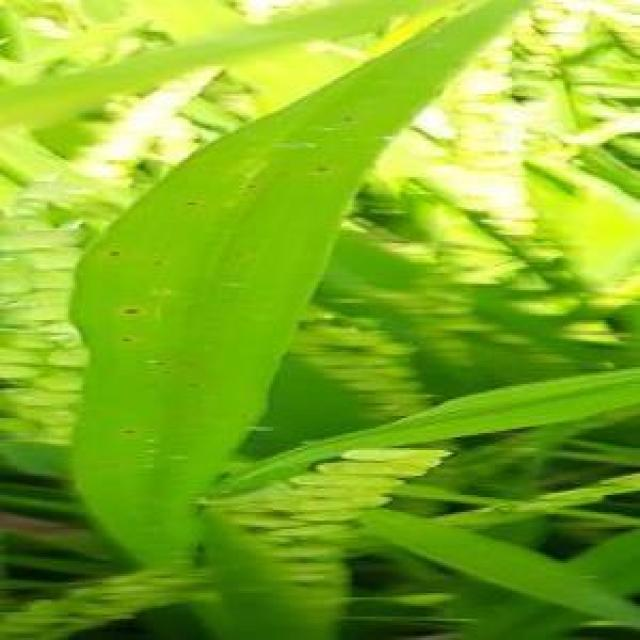Brown_Spot: (119, 298, 143, 319), (121, 420, 138, 442), (118, 331, 136, 351), (100, 247, 121, 264), (182, 196, 201, 214), (312, 160, 328, 174), (340, 110, 353, 124)
